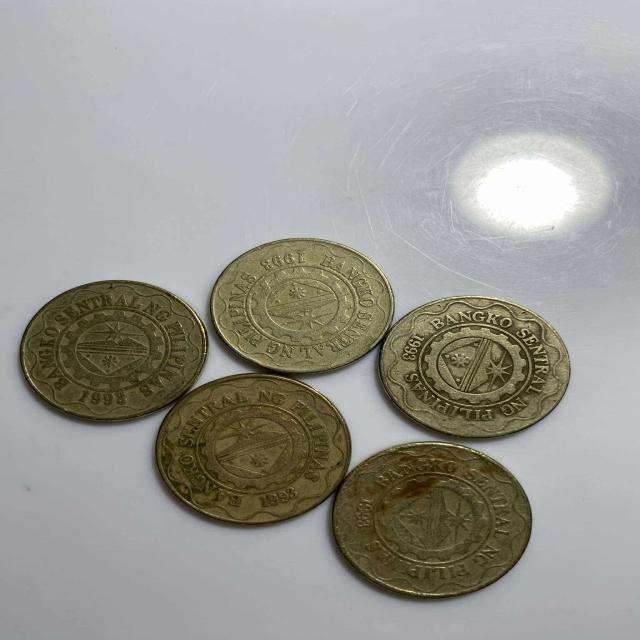5_Old_Back: (22, 277, 213, 416), (388, 297, 568, 442), (343, 446, 531, 583), (164, 376, 344, 518), (210, 240, 388, 368)
